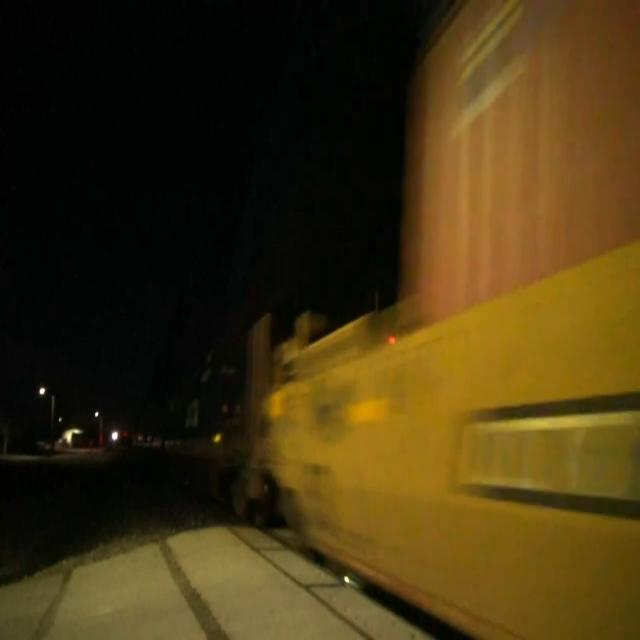container: (387, 0, 640, 353)
flatcar: (251, 226, 640, 640)
